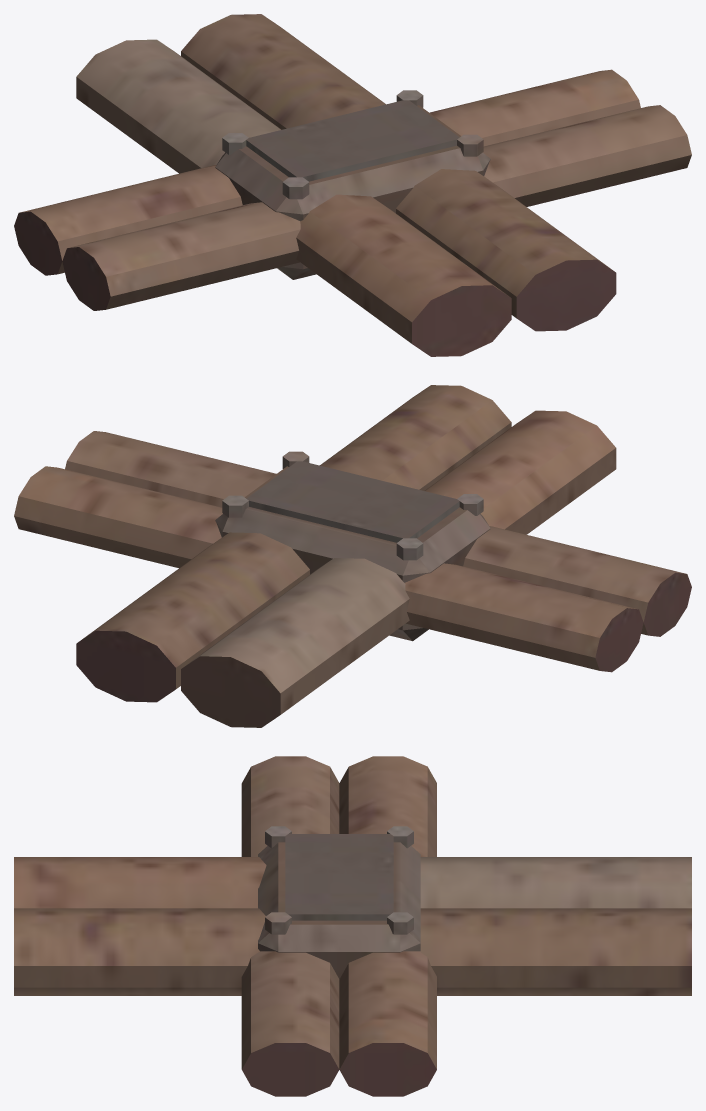
The model's file is heat-pipe-cross.glb.
3 views of the same model, one above another, from view 1: azimuth 30°, elevation 25°; view 2: azimuth 150°, elevation 25°; view 3: azimuth 270°, elevation 25° (orthographic).
Visible parts, largest first — view 1: body; view 2: body; view 3: body.
Boxes of the visible parts, left/top/right/bottom form: body: left=14, top=14, right=691, bottom=356; body: left=14, top=385, right=691, bottom=727; body: left=14, top=756, right=691, bottom=1096.
Size of the model in its own units: 1 by 0.16 by 1.
Materials: 1 (1 with a texture image).
